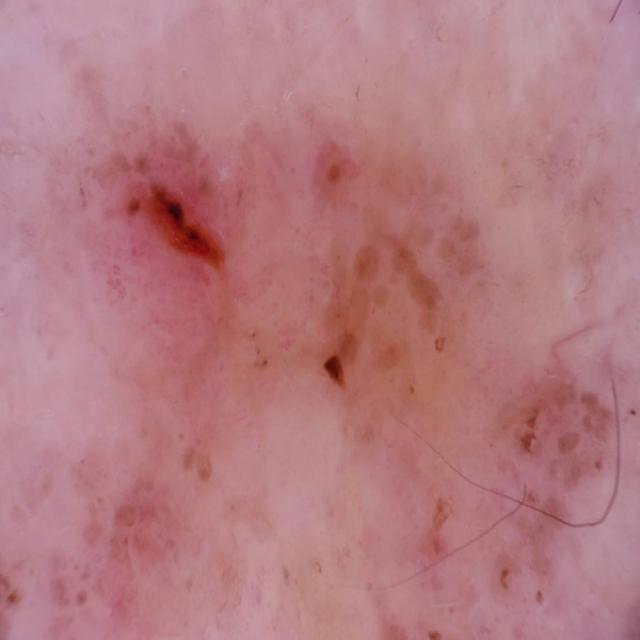Skin-Cancer Basal cell carcinoma: (32, 24, 618, 640)
